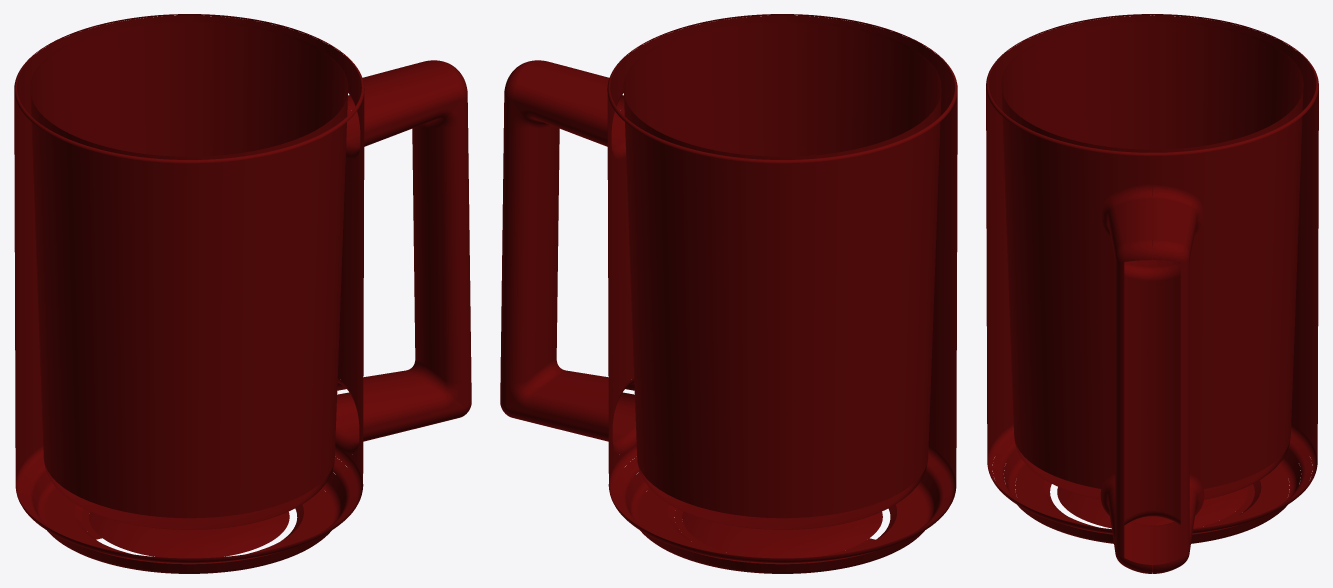
Rendered from CM-MUG030.glb.
3 views of the same model, side by side, from view 1: azimuth 30°, elevation 25°; view 2: azimuth 150°, elevation 25°; view 3: azimuth 270°, elevation 25° (orthographic). The views are drawn at different scales.
Size of the model in its own units: 0.091 by 0.088 by 0.065.
